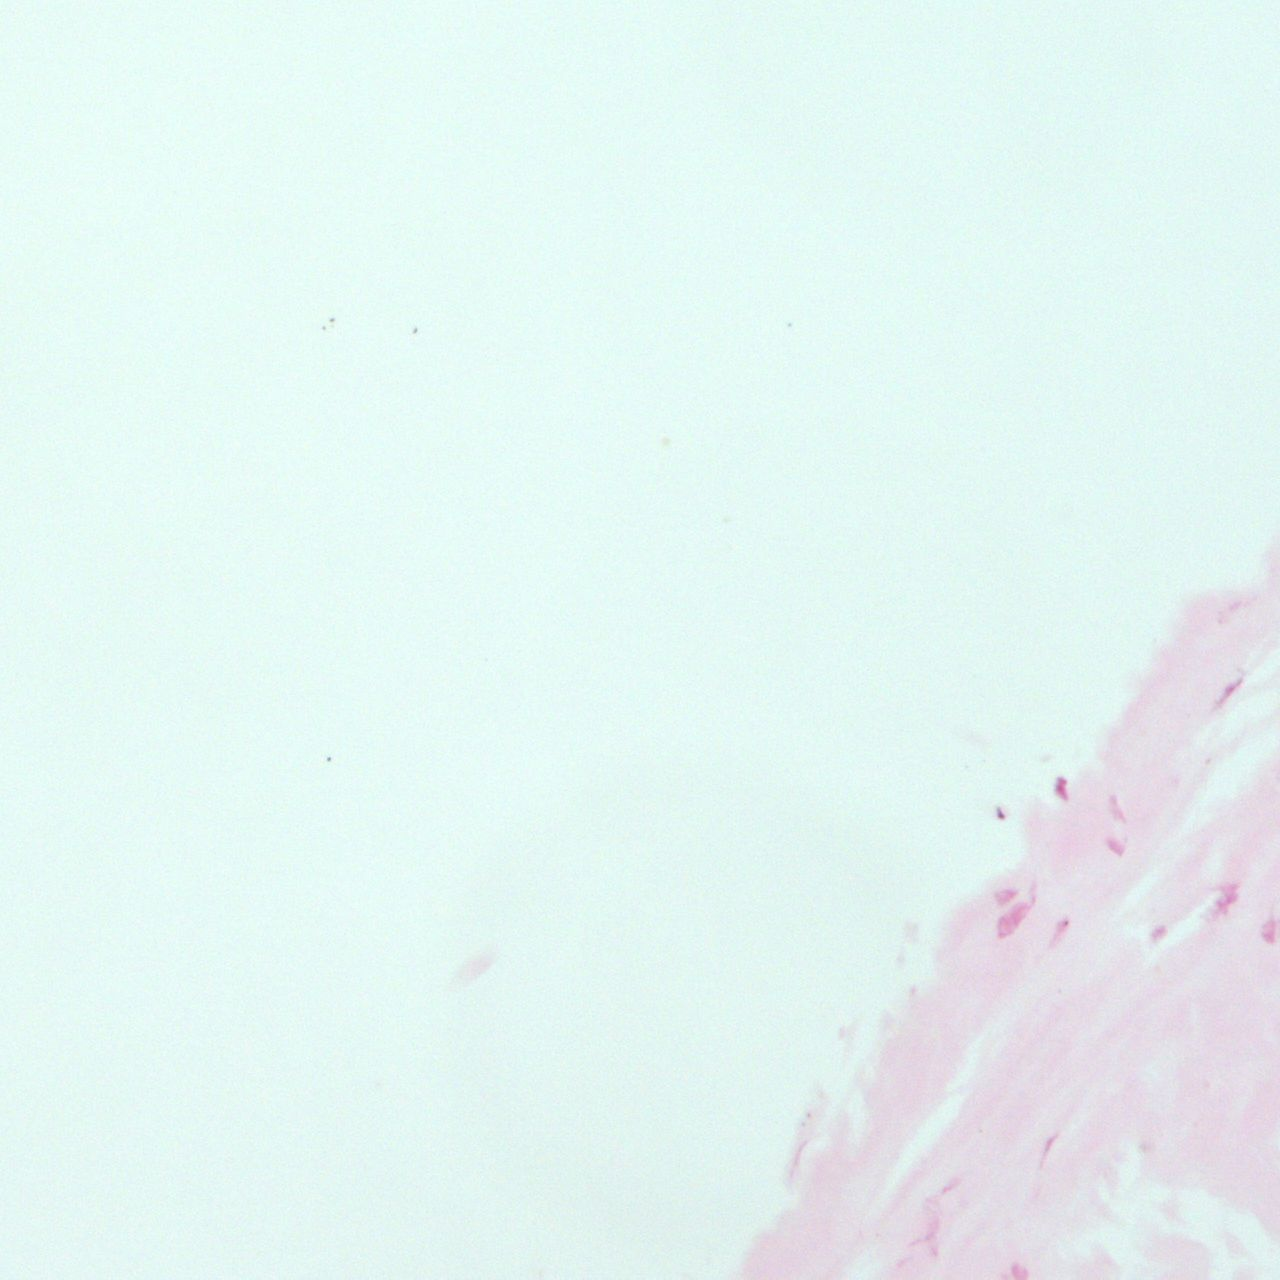dust: (996, 808, 1004, 818), (412, 327, 418, 333), (321, 324, 326, 329), (329, 318, 334, 322), (326, 757, 330, 761)
nucleus-AC: (990, 880, 1046, 942), (1207, 880, 1246, 921), (1213, 675, 1245, 709), (1036, 1132, 1059, 1168), (1045, 916, 1071, 946), (1107, 794, 1126, 824), (1104, 837, 1126, 858), (1053, 777, 1069, 801), (992, 889, 1019, 902), (924, 1218, 939, 1241), (1261, 921, 1278, 941), (1011, 1264, 1029, 1280), (1152, 924, 1166, 941), (941, 1180, 958, 1194)
